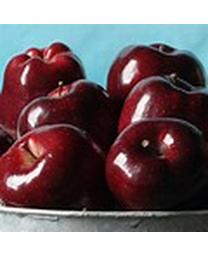apple: (106, 120, 207, 212), (1, 125, 106, 213), (2, 43, 88, 136), (18, 81, 118, 154), (117, 78, 206, 139), (106, 43, 207, 92)
